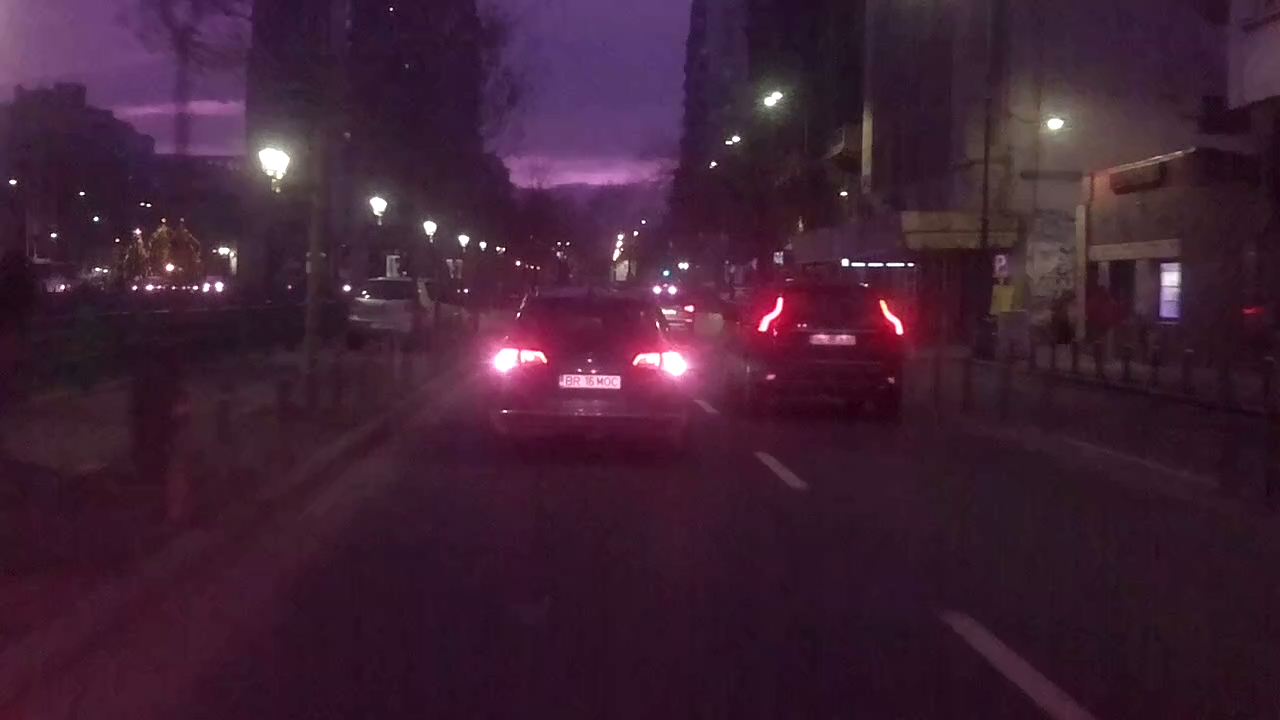license-plate: (556, 372, 624, 390)
